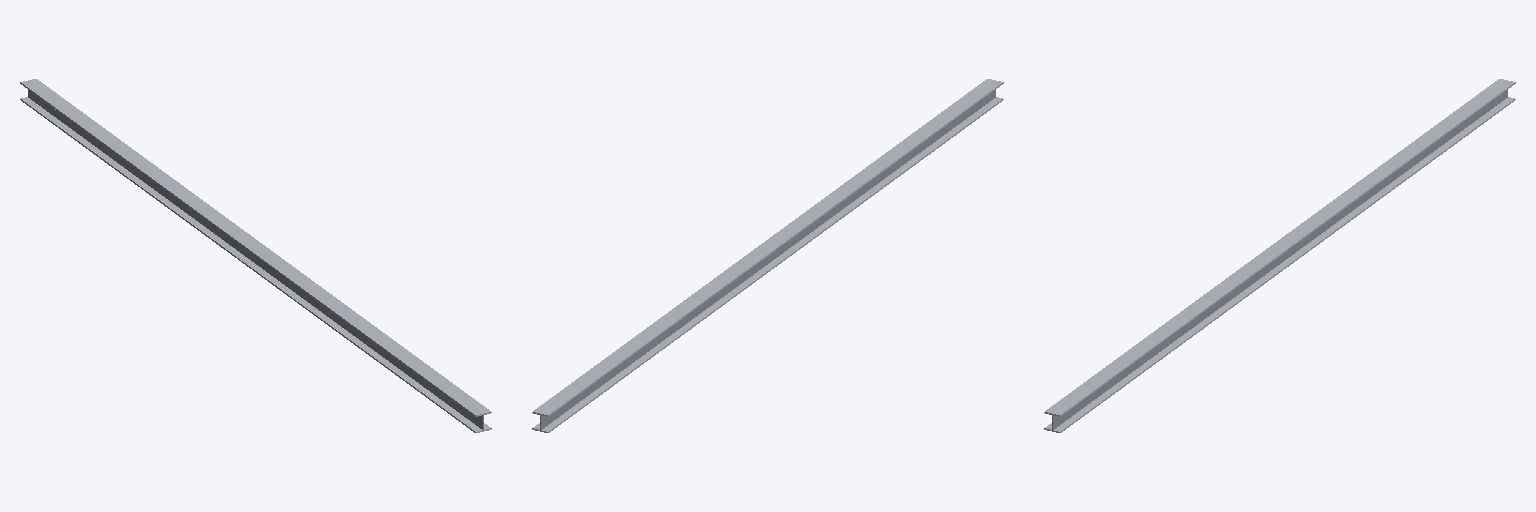
The robot description file, URDF, robot "h_bar":
<?xml version="1.0" ?>
<!-- =================================================================================== -->
<!-- |    This document was autogenerated by xacro from h_bar.xacro                    | -->
<!-- |    EDITING THIS FILE BY HAND IS NOT RECOMMENDED                                 | -->
<!-- =================================================================================== -->
<robot name="h_bar">
  <link name="world"/>
  <!-- Bottom leg (aligned with z-axis after rotation, below origin) -->
  <link name="hbar_bottom_leg">
    <visual>
      <origin rpy="0 1.57079633 0" xyz="0 0 0"/>
      <geometry>
        <!-- thickness x, profile width y, leg length along local z -->
        <box size="0.01 5.0 0.1"/>
      </geometry>
      <material name="hbar_material_bottom">
        <!-- Brushed steel-like gray -->
        <color rgba="0.75 0.75 0.78 1.0"/>
      </material>
    </visual>
    <collision>
      <origin rpy="0 1.57079633 0" xyz="0 0 0"/>
      <geometry>
        <box size="0.01 5.0 0.1"/>
      </geometry>
    </collision>
    <inertial>
      <origin rpy="0 0 0" xyz="0 0 0"/>
      <mass value="0.3333333333333333"/>
      <inertia ixx="0.6947222222222222" ixy="0.0" ixz="0.0" iyy="0.0002805555555555556" iyz="0.0" izz="0.6944472222222222"/>
    </inertial>
  </link>
  <!-- Top leg (aligned with z-axis after rotation, above origin) -->
  <link name="hbar_top_leg">
    <visual>
      <origin rpy="0 1.57079633 0" xyz="0 0 0"/>
      <geometry>
        <box size="0.01 5.0 0.1"/>
      </geometry>
      <material name="hbar_material_top">
        <!-- Brushed steel-like gray -->
        <color rgba="0.75 0.75 0.78 1.0"/>
      </material>
    </visual>
    <collision>
      <origin rpy="0 1.57079633 0" xyz="0 0 0"/>
      <geometry>
        <box size="0.01 5.0 0.1"/>
      </geometry>
    </collision>
    <inertial>
      <origin rpy="0 0 0" xyz="0 0 0"/>
      <mass value="0.3333333333333333"/>
      <inertia ixx="0.6947222222222222" ixy="0.0" ixz="0.0" iyy="0.0002805555555555556" iyz="0.0" izz="0.6944472222222222"/>
    </inertial>
  </link>
  <!-- Crossbar: vertical (aligned with z-axis) at the origin -->
  <link name="hbar_crossbar">
    <visual>
      <!-- Thickness in x,y, length in z -->
      <origin rpy="0 0 0" xyz="0 0 0"/>
      <geometry>
        <box size="0.01 5.0 0.1"/>
      </geometry>
      <material name="hbar_material_cross">
        <!-- Slightly darker steel for visual contrast -->
        <color rgba="0.65 0.65 0.7 1.0"/>
      </material>
    </visual>
    <collision>
      <origin rpy="0 0 0" xyz="0 0 0"/>
      <geometry>
        <box size="0.01 5.0 0.1"/>
      </geometry>
    </collision>
    <inertial>
      <origin rpy="0 0 0" xyz="0 0 0"/>
      <mass value="0.3333333333333333"/>
      <inertia ixx="0.6947222222222222" ixy="0.0" ixz="0.0" iyy="0.0002805555555555556" iyz="0.0" izz="0.6944472222222222"/>
    </inertial>
  </link>
  <!-- Fix crossbar to world; its center is at the macro pose -->
  <joint name="hbar_cross_fix" type="fixed">
    <parent link="world"/>
    <child link="hbar_crossbar"/>
    <origin rpy="0 0 0" xyz="0 0 0"/>
  </joint>
  <!-- Top leg: translated +L_leg/2 in x and +L_span/2 in z relative to crossbar -->
  <joint name="hbar_top_fix" type="fixed">
    <parent link="hbar_crossbar"/>
    <child link="hbar_top_leg"/>
    <origin rpy="0 0.0 0" xyz="0 0 0.05"/>
  </joint>
  <!-- Bottom leg: translated +L_leg/2 in x and -L_span/2 in z relative to crossbar -->
  <joint name="hbar_bottom_fix" type="fixed">
    <parent link="hbar_crossbar"/>
    <child link="hbar_bottom_leg"/>
    <origin rpy="0 0 0" xyz="0 0 -0.05"/>
  </joint>
</robot>

--- Facts derived from the render (not from the file) ---
Views: 3 orthographic renders of the robot side by side, from view 1: azimuth 30°, elevation 25°; view 2: azimuth 150°, elevation 25°; view 3: azimuth 330°, elevation 25°.
Model h_bar with 4 links and 3 joints (3 fixed), rooted at world, posed every joint at zero.
Visible links, largest first — view 1: hbar_top_leg, hbar_bottom_leg, hbar_crossbar; view 2: hbar_top_leg, hbar_bottom_leg, hbar_crossbar; view 3: hbar_top_leg, hbar_bottom_leg, hbar_crossbar.
Link boxes in pixels (x1=…): hbar_top_leg: x1=20, y1=79, x2=491, y2=416; hbar_bottom_leg: x1=20, y1=97, x2=491, y2=432; hbar_crossbar: x1=28, y1=90, x2=483, y2=430; hbar_top_leg: x1=532, y1=79, x2=1003, y2=416; hbar_bottom_leg: x1=532, y1=97, x2=1003, y2=432; hbar_crossbar: x1=540, y1=90, x2=995, y2=429; hbar_top_leg: x1=1044, y1=79, x2=1515, y2=416; hbar_bottom_leg: x1=1044, y1=97, x2=1515, y2=432; hbar_crossbar: x1=1052, y1=90, x2=1507, y2=429.
Bounding box of the posed robot: 0.1 × 5 × 0.11 m (x, y, z).
Geometry: primitives only (box / cylinder / sphere), no mesh files.
